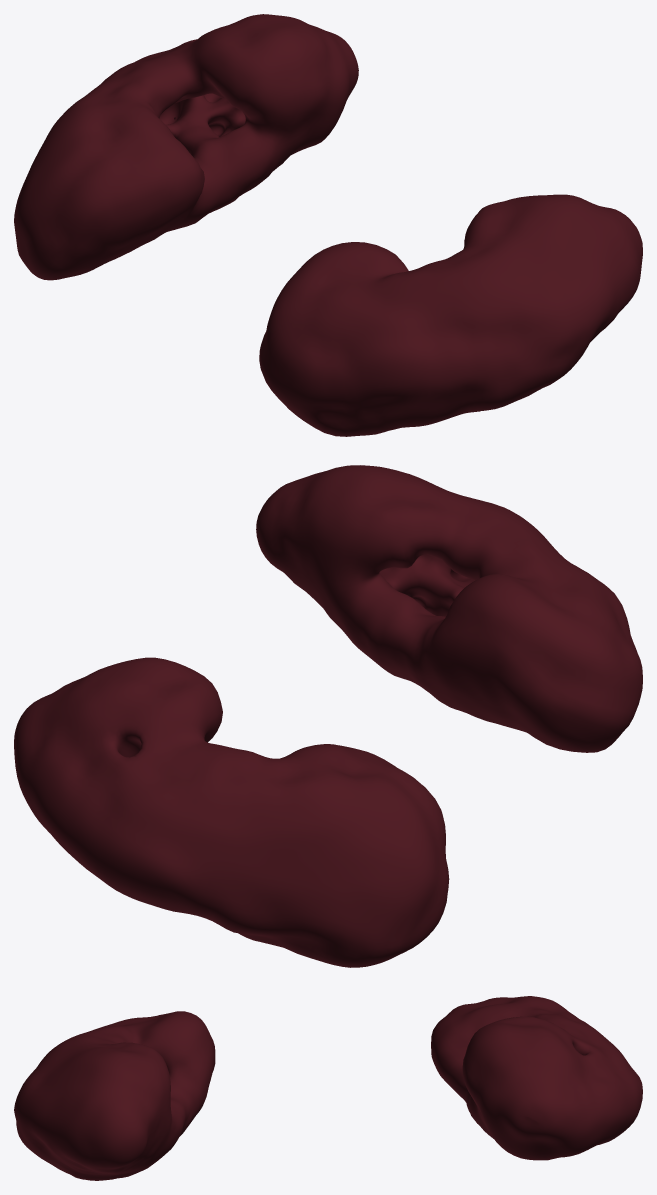
Rendered from Kidneys.obj.
3 renders of one model, top to bottom at view 1: azimuth 30°, elevation 25°; view 2: azimuth 150°, elevation 25°; view 3: azimuth 270°, elevation 25°, orthographic. The views are drawn at different scales.
Visible parts, largest first — view 1: Kidneys; view 2: Kidneys; view 3: Kidneys.
Part boxes in pixels (x1,y1,x2,y2): Kidneys: (14, 14, 642, 436); Kidneys: (14, 465, 642, 967); Kidneys: (14, 996, 642, 1180).
Bounding box in the file's own units: 4.95 × 2.5 × 8.33.
